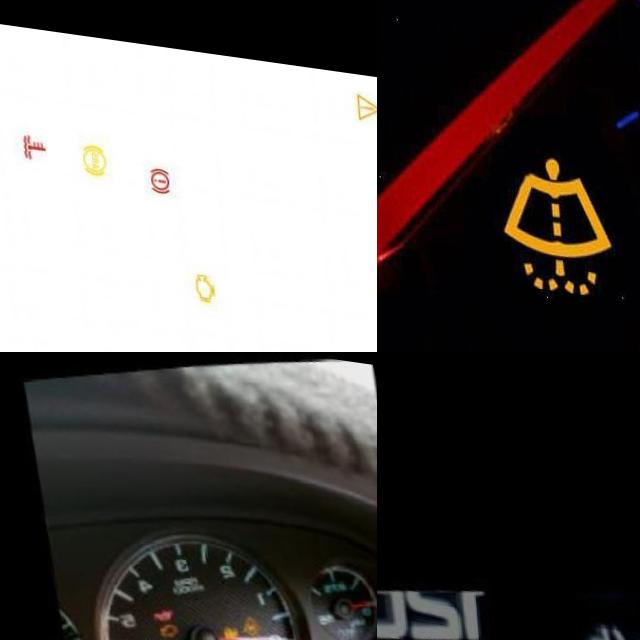Washer Fluid: (494, 145, 613, 292)
